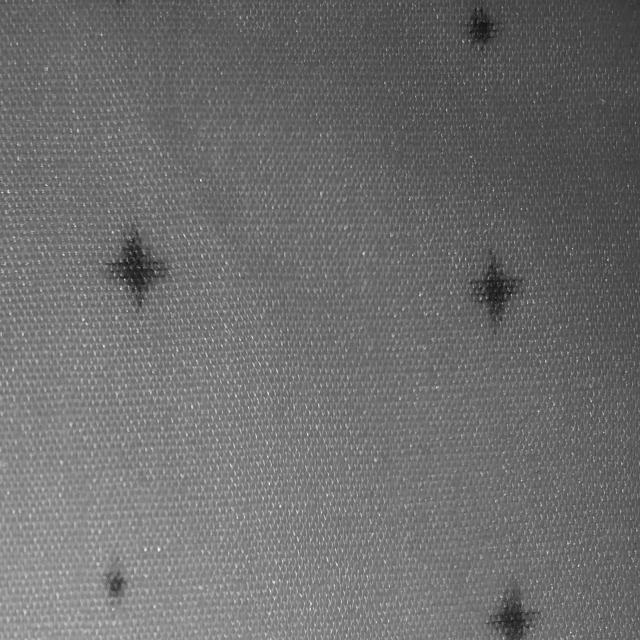Stain: (107, 225, 167, 306), (471, 249, 523, 328), (488, 582, 540, 640), (102, 551, 129, 607), (467, 5, 498, 43)
